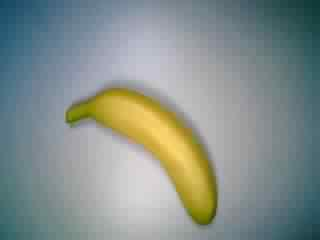banana: (66, 86, 220, 227)
